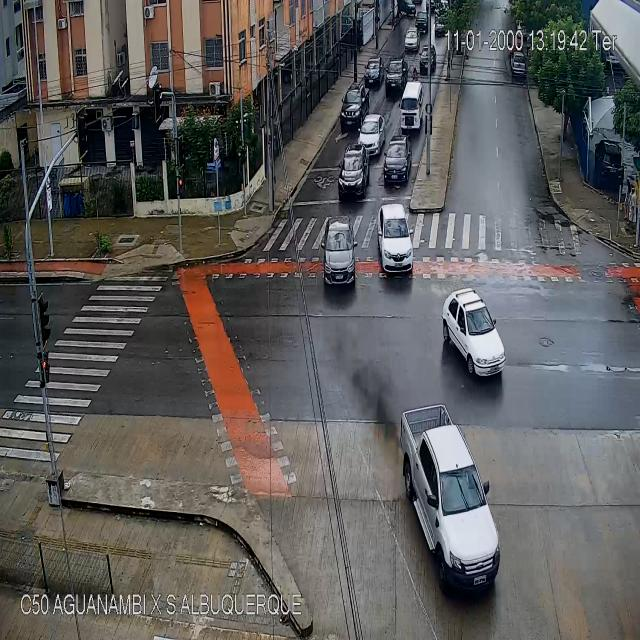Car: (400, 405, 502, 588), (442, 288, 505, 378), (320, 218, 358, 290), (377, 204, 415, 270), (337, 144, 370, 198), (384, 138, 411, 188), (399, 83, 425, 129), (342, 86, 370, 127), (358, 114, 386, 152), (386, 56, 407, 94), (418, 47, 441, 79), (365, 56, 382, 84), (404, 27, 419, 52), (512, 54, 528, 76), (416, 10, 429, 30), (435, 17, 447, 37)
